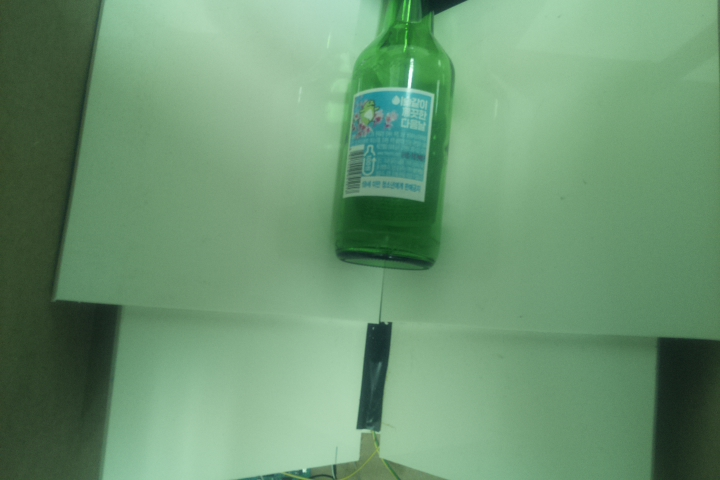soju: (331, 1, 455, 272)
